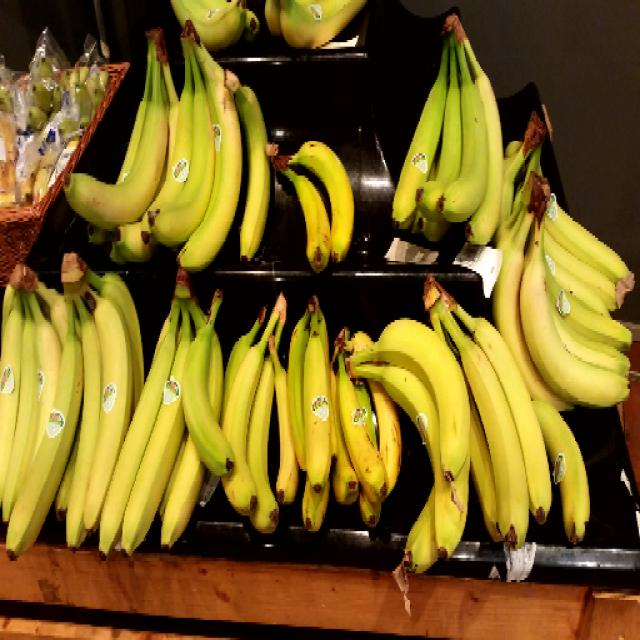banana: (55, 18, 273, 274), (410, 270, 601, 557), (491, 97, 640, 414), (0, 247, 148, 560), (338, 313, 476, 592), (102, 268, 225, 562), (386, 9, 506, 266), (221, 289, 294, 548), (328, 325, 406, 531), (263, 124, 367, 277), (285, 285, 337, 545)
